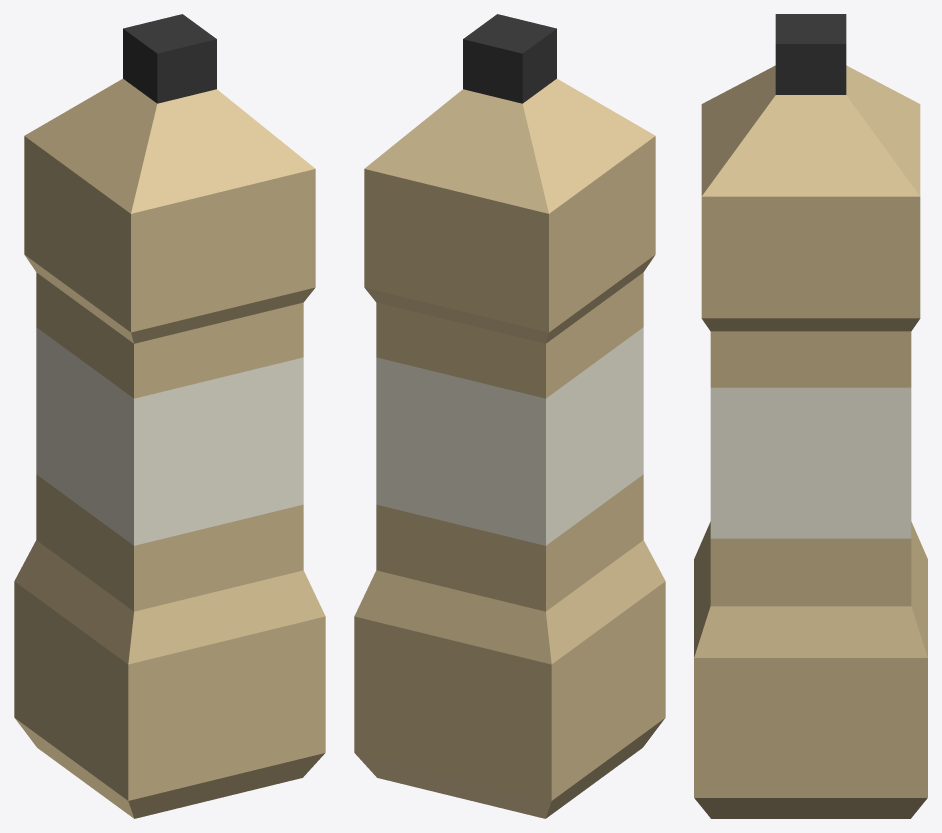
Rendered from Bottle_01.fbx.
The picture shows the model from 3 angles, left to right: view 1: azimuth 30°, elevation 25°; view 2: azimuth 150°, elevation 25°; view 3: azimuth 270°, elevation 25°; orthographic projection. The views are drawn at different scales.
Visible parts, largest first — view 1: Bottle_01; view 2: Bottle_01; view 3: Bottle_01.
Boxes of the visible parts, <box> form: Bottle_01: <box>14,14,325,818</box>; Bottle_01: <box>354,14,665,818</box>; Bottle_01: <box>694,14,927,818</box>.
Bounding box in the file's own units: 19.41 × 68.52 × 19.41.
